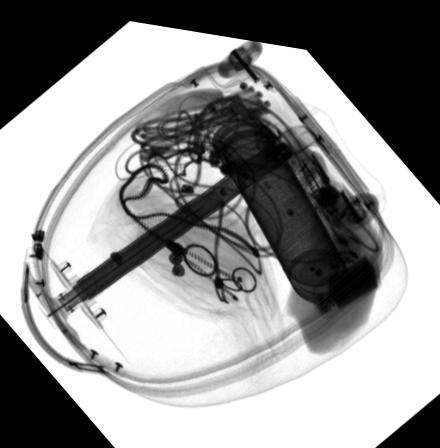Powerbank: (311, 239, 380, 313)
